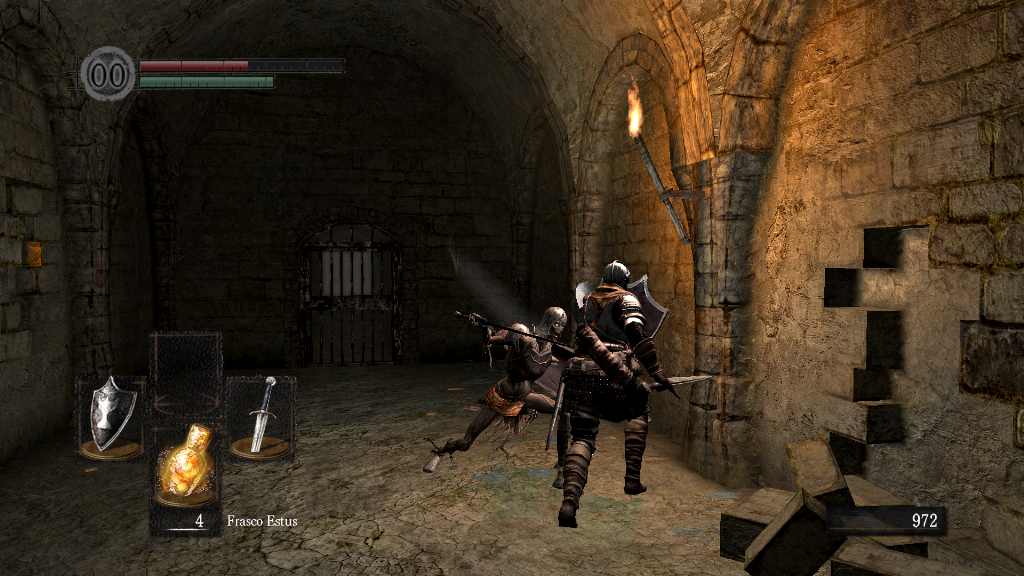health: (138, 58, 343, 71)
humanity: (80, 45, 136, 102)
player: (558, 259, 715, 531)
souls: (825, 506, 945, 536)
stamina: (138, 74, 274, 88)
undeadSoldier: (421, 304, 577, 486)
